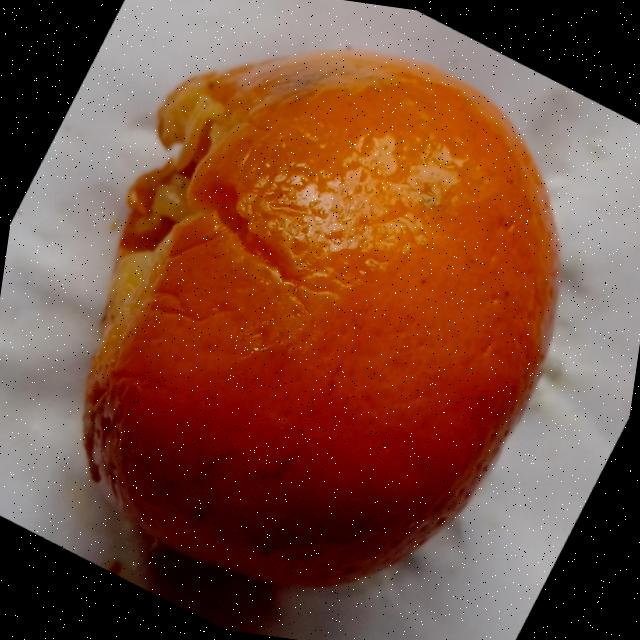Rotten: (60, 15, 591, 618)
